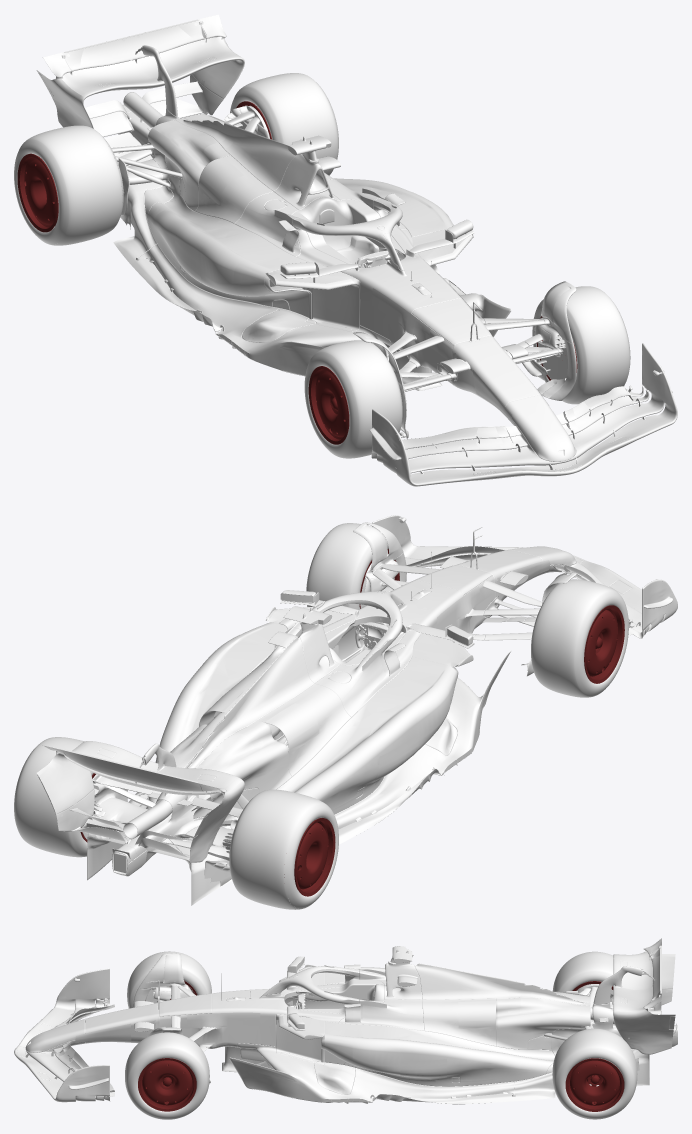
File: ferrari_sf25.glb
3 renders of one model, top to bottom at view 1: azimuth 30°, elevation 25°; view 2: azimuth 150°, elevation 25°; view 3: azimuth 270°, elevation 25°, orthographic. The views are drawn at different scales.
Parts seen in each view (by area): view 1: SF-25.011, SF-25.081, SF-25.033, SF-25.029, TYRE_RR_SUB1, SF-25.691, TYRE_LF_SUB1, SF-25.042, TYRE_RF_SUB1, TYRE_LR_SUB1, SF-25.01, SF-25.003 (+28 smaller); view 2: SF-25.011, SF-25.029, SF-25.081, TYRE_RR_SUB1, TYRE_RF_SUB1, SF-25.07, SF-25.042, SF-25.003, TYRE_LR_SUB1, SF-25.691, TYRE_LF_SUB1, polySurface194 (+33 smaller); view 3: SF-25.011, SF-25.030, SF-25.154, SF-25.043, SF-25.003, SF-25.033, wheel_bl, wheel_fl, SF-25_c1, TYRE_LF_SUB0, TYRE_LR_SUB0, polySurface177 (+28 smaller).
Part boxes in pixels (<box>): SF-25.011: <box>62,37,654,470</box>; SF-25.081: <box>113,156,430,390</box>; SF-25.033: <box>411,344,671,484</box>; SF-25.029: <box>42,36,659,393</box>; TYRE_RR_SUB1: <box>24,125,122,245</box>; SF-25.691: <box>36,38,244,136</box>; TYRE_LF_SUB1: <box>540,286,629,404</box>; SF-25.042: <box>51,96,513,459</box>; TYRE_RF_SUB1: <box>312,340,402,458</box>; TYRE_LR_SUB1: <box>239,73,337,175</box>; SF-25.01: <box>410,411,671,486</box>; SF-25.003: <box>149,156,370,318</box>; SF-25.011: <box>64,551,675,800</box>; SF-25.029: <box>37,517,455,826</box>; SF-25.081: <box>183,650,511,884</box>; TYRE_RR_SUB1: <box>230,789,327,909</box>; TYRE_RF_SUB1: <box>531,579,621,697</box>; SF-25.07: <box>87,743,224,905</box>; SF-25.042: <box>190,560,672,861</box>; SF-25.003: <box>149,689,383,828</box>; TYRE_LR_SUB1: <box>15,737,86,857</box>; SF-25.691: <box>36,741,244,862</box>; TYRE_LF_SUB1: <box>307,523,383,607</box>; polySurface194: <box>330,656,457,739</box>; SF-25.011: <box>25,951,652,1092</box>; SF-25.030: <box>80,954,675,1090</box>; SF-25.154: <box>222,1043,555,1104</box>; SF-25.043: <box>64,1005,672,1085</box>; SF-25.003: <box>325,1030,581,1083</box>; SF-25.033: <box>16,1005,147,1097</box>; wheel_bl: <box>565,1058,624,1111</box>; wheel_fl: <box>138,1058,196,1111</box>; SF-25_c1: <box>182,1026,324,1064</box>; TYRE_LF_SUB0: <box>128,1048,206,1119</box>; TYRE_LR_SUB0: <box>555,1048,634,1119</box>; polySurface177: <box>324,1021,452,1064</box>.
Size of the model in its own units: 0.0198 by 0.0116 by 0.0559.
